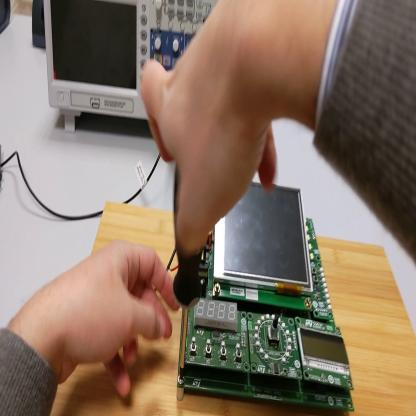hand: (142, 8, 289, 266), (50, 240, 180, 398)
low voltage board: (168, 180, 357, 415)
oscilloscope: (45, 3, 229, 134)
screwdriver-: (172, 165, 203, 383)
socket: (33, 1, 47, 49), (2, 3, 12, 38)
working area: (50, 205, 413, 413)
